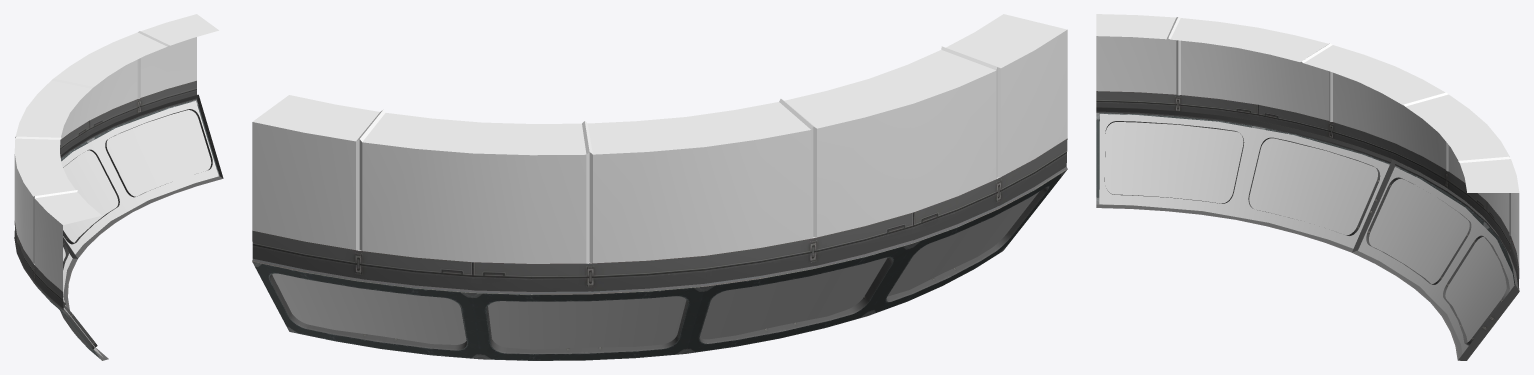
The model's file is TopWindow_Corner_Curve_Outer.glb.
3 renders of one model, left to right at view 1: azimuth 30°, elevation 25°; view 2: azimuth 150°, elevation 25°; view 3: azimuth 270°, elevation 25°, orthographic. The views are drawn at different scales.
Visible parts, largest first — view 1: TopWindow_Corner_Curve_Outer; view 2: TopWindow_Corner_Curve_Outer; view 3: TopWindow_Corner_Curve_Outer.
Part boxes in pixels (bbox=[...]): TopWindow_Corner_Curve_Outer: bbox=[14, 14, 223, 360]; TopWindow_Corner_Curve_Outer: bbox=[252, 14, 1067, 360]; TopWindow_Corner_Curve_Outer: bbox=[1096, 14, 1519, 360].
Bounding box in the file's own units: 4.57 × 2.02 × 4.57.
4 materials, 2 textured.
